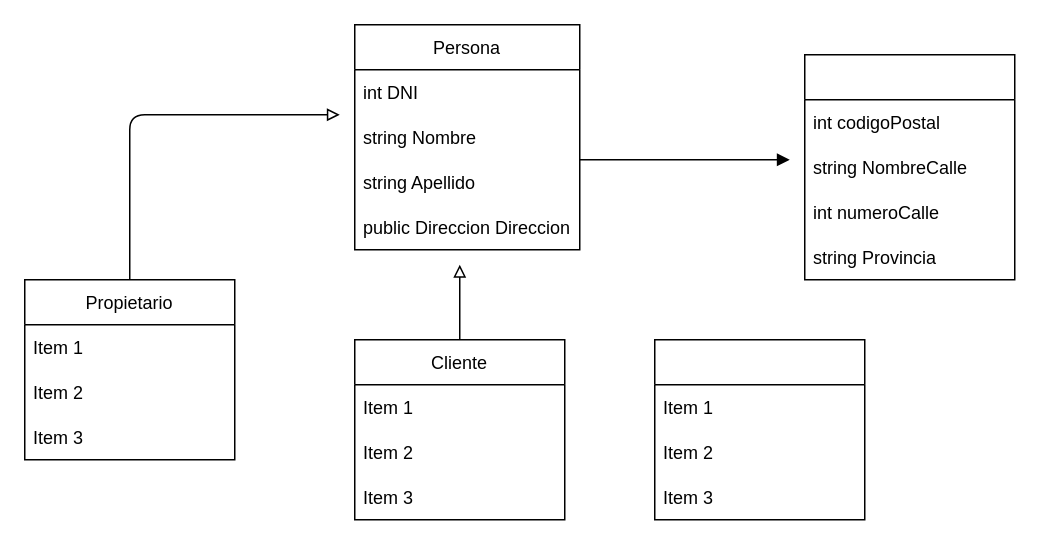
The diagram is 1040 pixels wide and 545 high, and some of its shapes have lost their labels. Here are the shapes that lost their labels. From the top down, the box of each, then its label:
(803, 53, 1015, 280): Direccion
(653, 338, 865, 520): Producto
